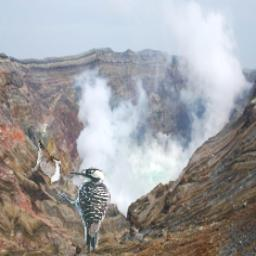Cuckoo: (30, 124, 60, 186)
Woodpecker: (54, 167, 113, 252)
